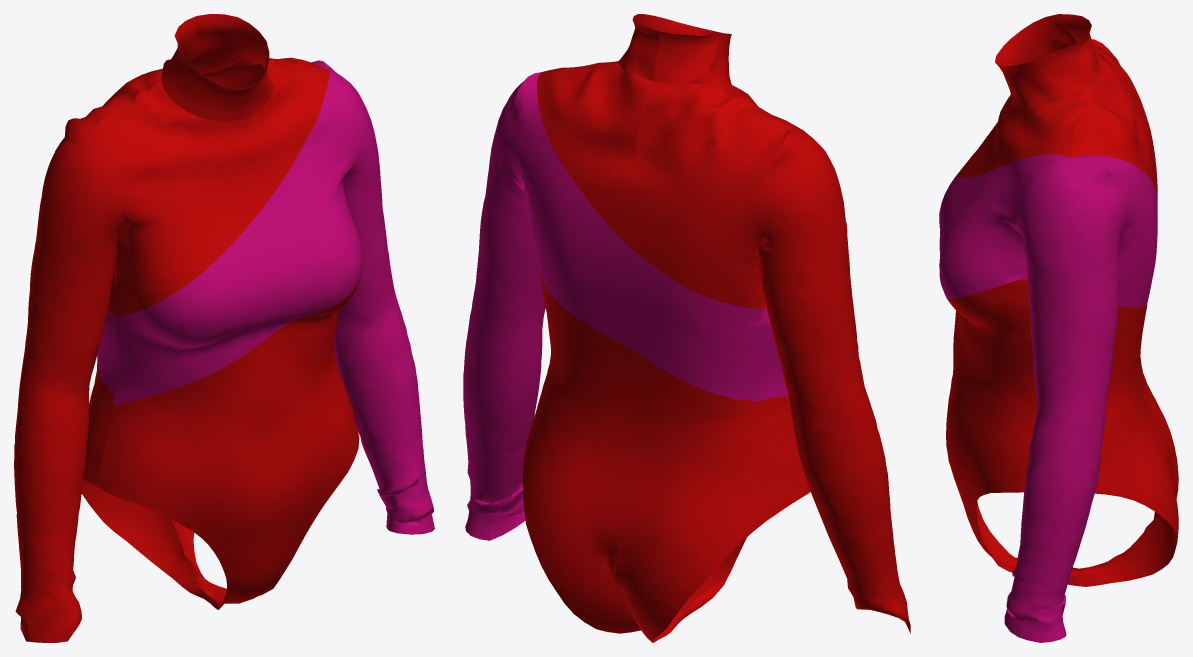
The picture shows the model from 3 angles, left to right: view 1: azimuth 30°, elevation 25°; view 2: azimuth 150°, elevation 25°; view 3: azimuth 270°, elevation 25°; orthographic projection. The views are drawn at different scales.
Parts seen in each view (by area): view 1: Pattern2D_713644, SLE, Pattern2D_713516, Pattern2D_530152, SLE_1, Pattern2D_408223, Pattern2D_569657, Pattern2D_550291, Pattern2D_563137, Pattern2D_569619; view 2: SLE, Pattern2D_569657, Pattern2D_563137, Pattern2D_556861, SLE_1, Pattern2D_556758, Pattern2D_569619, Pattern2D_550291, Pattern2D_408223, Pattern2D_713644, Pattern2D_530152; view 3: SLE_1, Pattern2D_713644, Pattern2D_556861, Pattern2D_713516, Pattern2D_408223, Pattern2D_556758, Pattern2D_530152, Pattern2D_550291, Pattern2D_563137, Pattern2D_569657.
Boxes of the visible parts, x1,y1,x2,y2 form: Pattern2D_713644: (96, 267, 362, 609); SLE: (14, 118, 125, 642); Pattern2D_713516: (113, 72, 362, 406); Pattern2D_530152: (93, 59, 329, 316); SLE_1: (324, 62, 434, 534); Pattern2D_408223: (161, 14, 274, 121); Pattern2D_569657: (81, 361, 199, 586); Pattern2D_550291: (186, 49, 328, 88); Pattern2D_563137: (74, 68, 162, 316); Pattern2D_569619: (97, 310, 119, 396); SLE: (758, 129, 910, 633); Pattern2D_569657: (615, 353, 810, 642); Pattern2D_563137: (623, 81, 792, 309); Pattern2D_556861: (522, 271, 640, 633); SLE_1: (463, 79, 545, 540); Pattern2D_556758: (509, 72, 635, 352); Pattern2D_569619: (623, 242, 788, 400); Pattern2D_550291: (536, 62, 653, 241); Pattern2D_408223: (618, 14, 731, 85); Pattern2D_713644: (664, 537, 746, 635); Pattern2D_530152: (544, 60, 803, 130); SLE_1: (1004, 157, 1123, 642); Pattern2D_713644: (946, 277, 1096, 586); Pattern2D_556861: (1089, 304, 1178, 585); Pattern2D_713516: (939, 154, 1069, 299); Pattern2D_408223: (995, 14, 1100, 108); Pattern2D_556758: (1073, 155, 1157, 307); Pattern2D_530152: (955, 94, 1075, 177); Pattern2D_550291: (1070, 68, 1156, 193); Pattern2D_563137: (1092, 39, 1157, 195); Pattern2D_569657: (1091, 357, 1178, 566).
Size of the model in its own units: 56.78 by 75.15 by 29.37.
